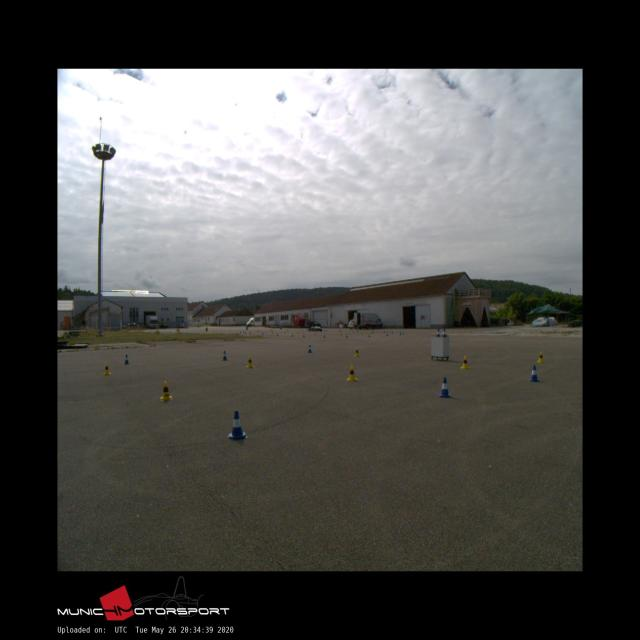blue_cone: (226, 410, 247, 439), (438, 377, 451, 397), (529, 364, 539, 383), (124, 354, 130, 364), (222, 350, 227, 360), (436, 328, 441, 338), (442, 328, 447, 338), (308, 344, 312, 353)
yellow_cone: (160, 381, 172, 400), (345, 365, 358, 381), (460, 355, 469, 368), (102, 362, 110, 375), (537, 350, 544, 363), (246, 356, 253, 368), (354, 347, 359, 357)
